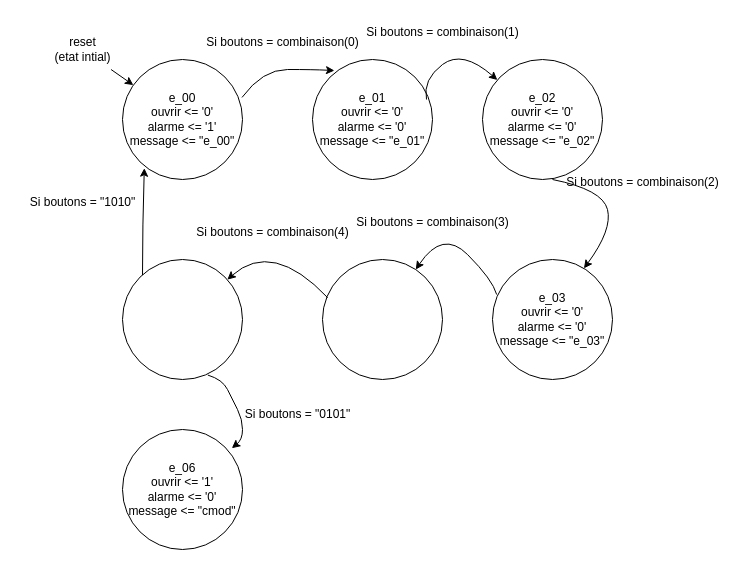
Image size: 749x567. Some labels were removed from this diagram. The shapes that lost their labels are listed below. From the top down, each one's centre as x and y in pixels, then its label:
point 182,319: e_05 ouvrir <= '1' alarme <= '0' message <= "e_05"
point 382,319: e_04 ouvrir <= '0' alarme <= '0' message <= "e_04"
